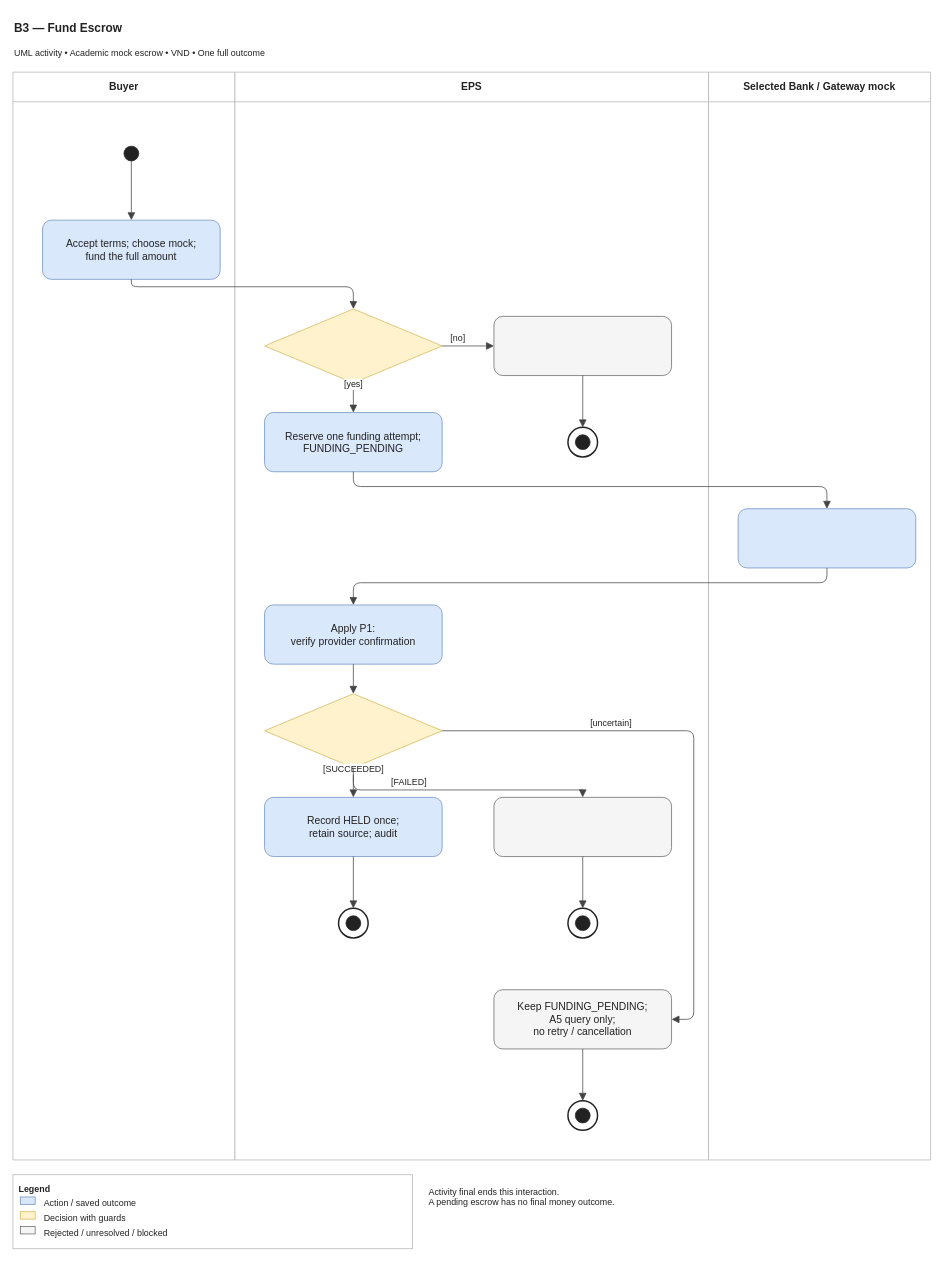
Some shapes in this 944 by 1262 pixel diagram are drawn without their labels. Each missing label, with the centre of its shape:
FAILED: no collection; AWAITING_FUNDING: point 582,827
Funding eligible?: point 353,345
Receive funding instruction; return / callback result: point 826,538
Reject invalid funding; reuse existing attempt: point 582,346
Verified funding result?: point 353,730
